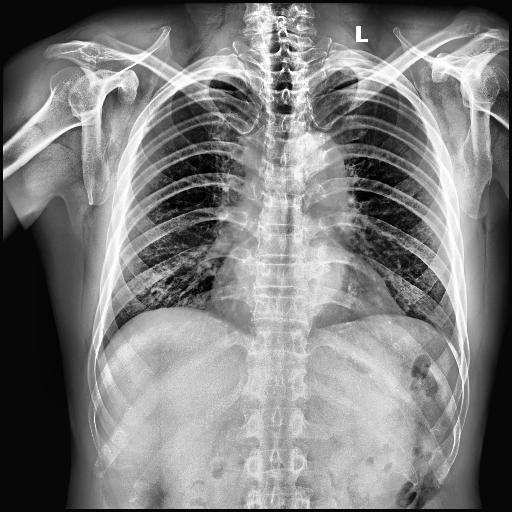0- Aortic enlargement: (292, 132, 354, 212), (290, 128, 352, 198), (302, 132, 348, 190)
